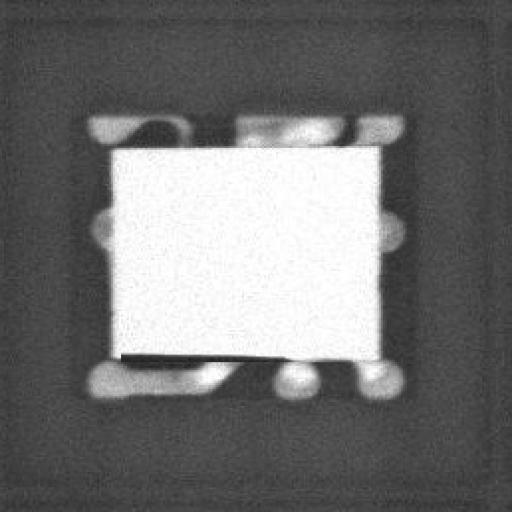DIE_BROKEN: (113, 345, 292, 362)
